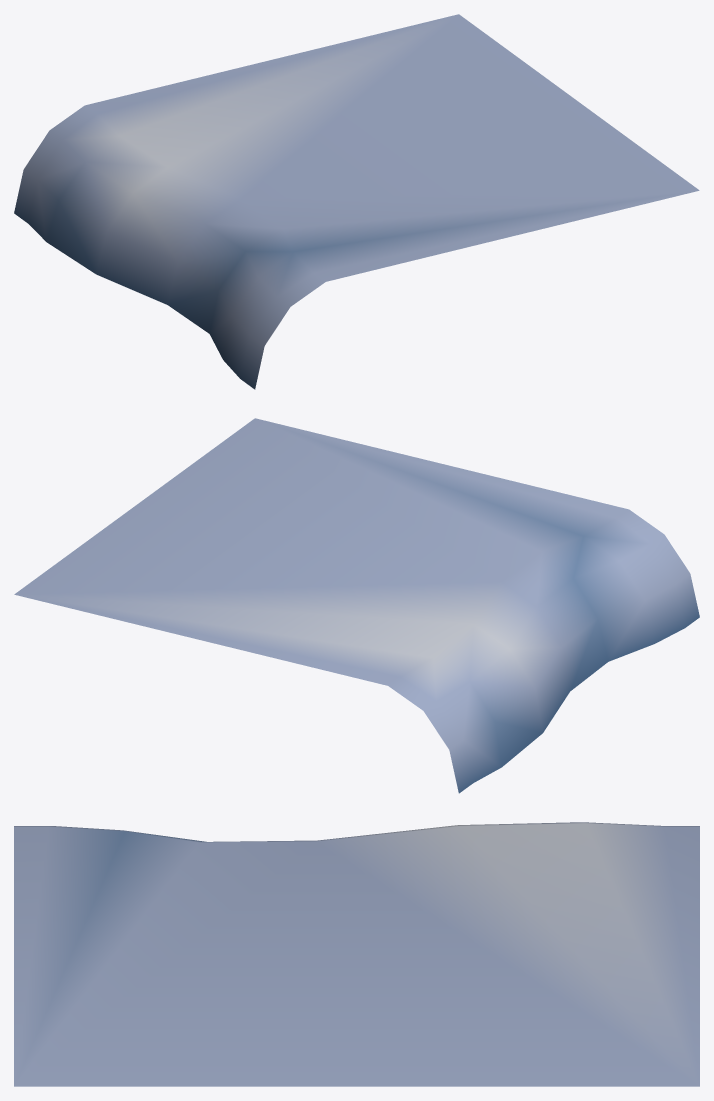
The model's file is Surface_RoadUp02.fbx.
3 views of the same model, one above another, from view 1: azimuth 30°, elevation 25°; view 2: azimuth 150°, elevation 25°; view 3: azimuth 270°, elevation 25° (orthographic). The views are drawn at different scales.
Visible parts, largest first — view 1: Surface_RoadUp02; view 2: Surface_RoadUp02; view 3: Surface_RoadUp02.
Boxes of the visible parts, bbox=[...] form: Surface_RoadUp02: bbox=[14, 14, 699, 389]; Surface_RoadUp02: bbox=[14, 418, 699, 793]; Surface_RoadUp02: bbox=[14, 822, 699, 1086].
Bounding box in the file's own units: 2156 × 415 × 2000.
